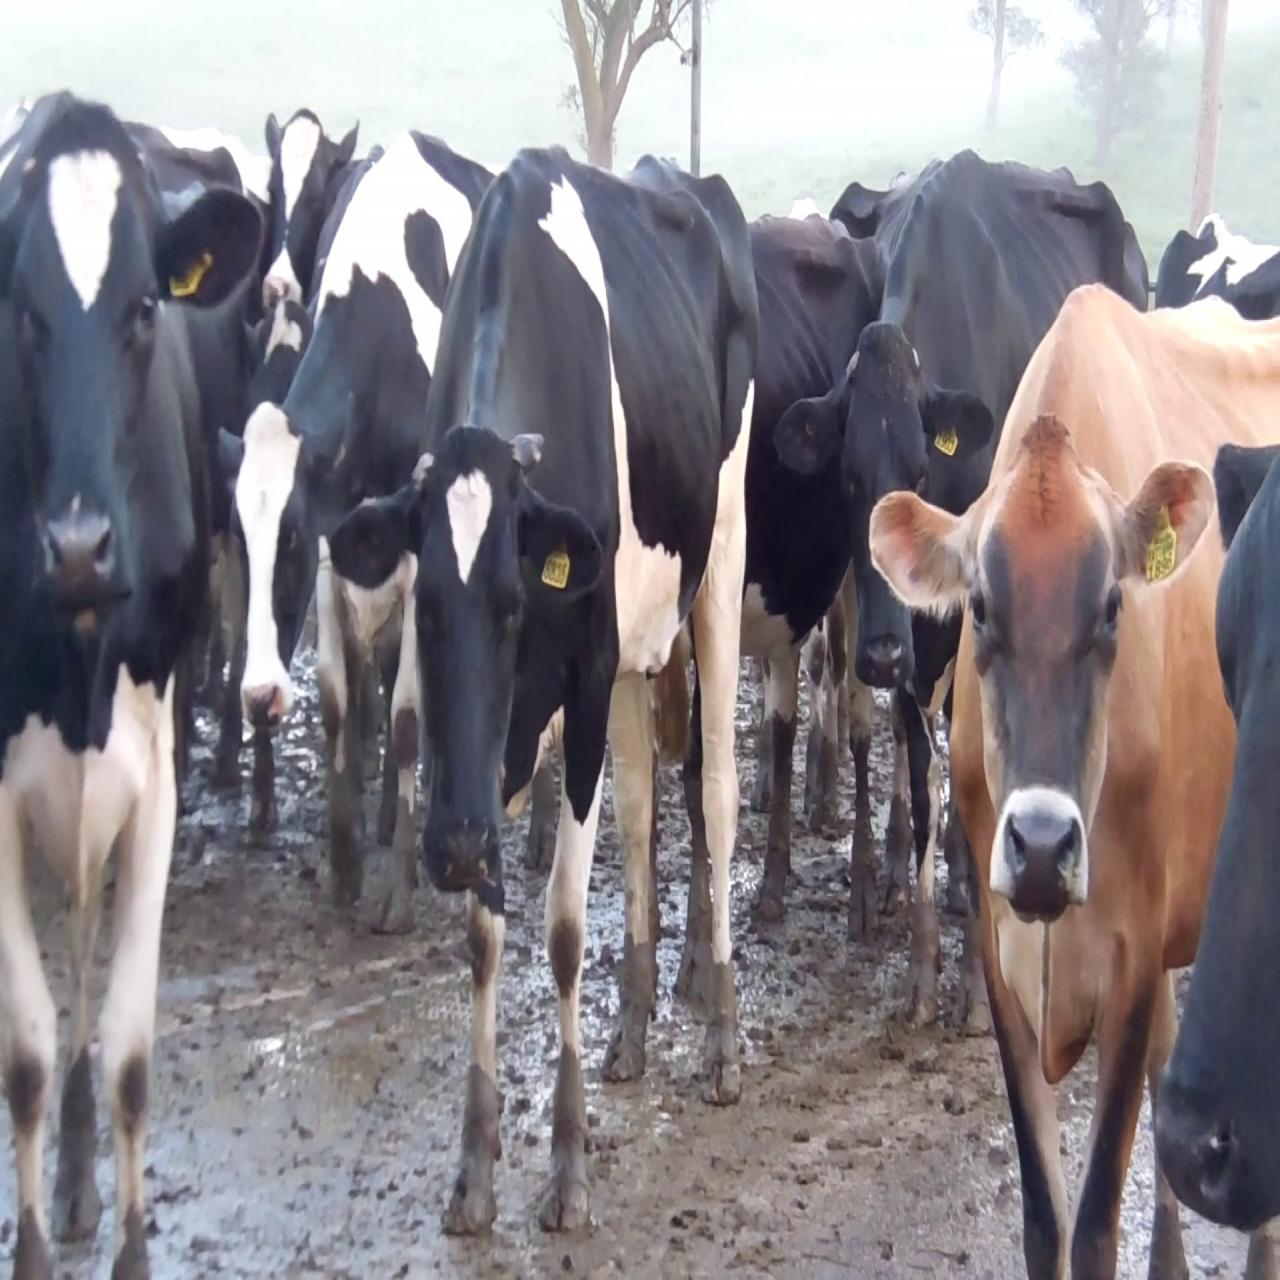Face: (973, 459, 1124, 906), (12, 122, 160, 578), (421, 438, 524, 882), (839, 338, 920, 691), (223, 409, 313, 725), (262, 109, 319, 311)
